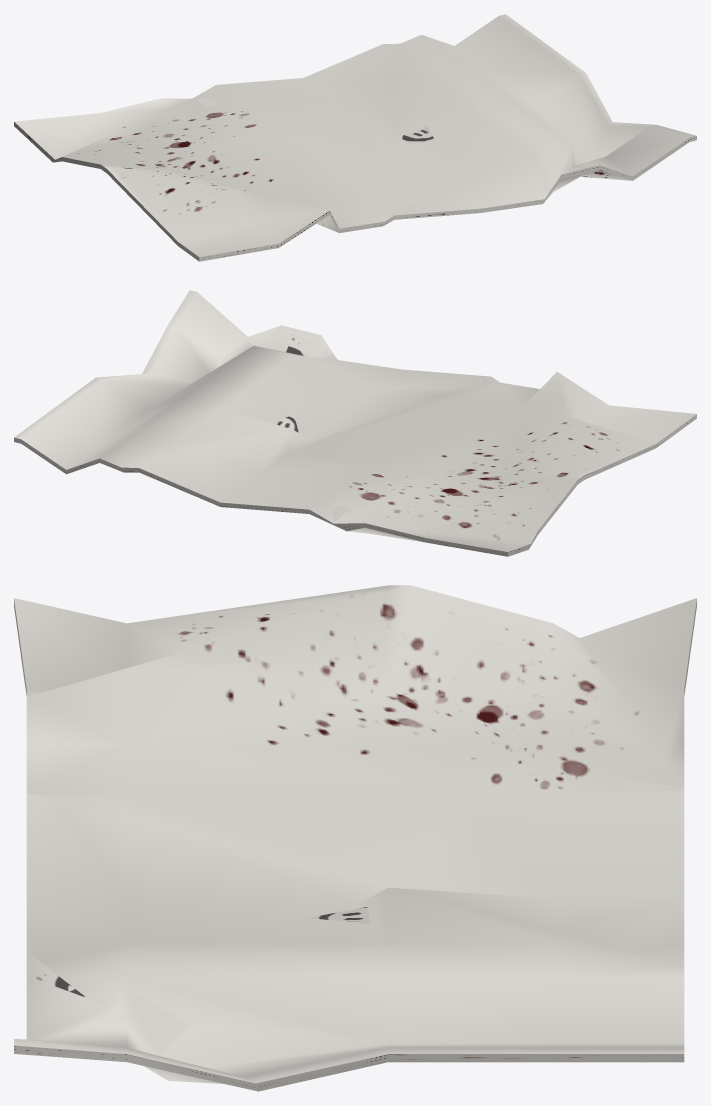
Rendered from drawing_FBX.fbx.
3 renders of one model, top to bottom at view 1: azimuth 30°, elevation 25°; view 2: azimuth 150°, elevation 25°; view 3: azimuth 270°, elevation 25°, orthographic. The views are drawn at different scales.
Parts seen in each view (by area): view 1: pCube1; view 2: pCube1; view 3: pCube1.
Part boxes in pixels (left/top/right/bottom): pCube1: left=14, top=14, right=696, bottom=261; pCube1: left=14, top=290, right=696, bottom=556; pCube1: left=14, top=585, right=696, bottom=1091.
Bounding box in the file's own units: 6.29 × 0.7821 × 4.06.
Materials: 1 (1 with a texture image).
